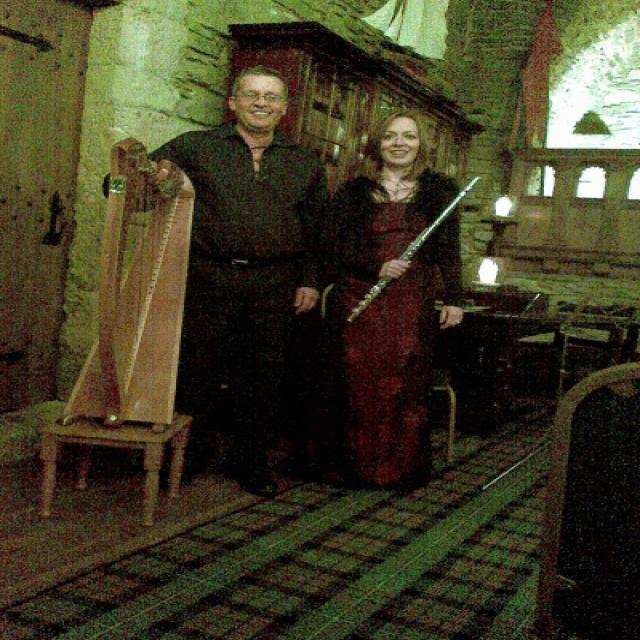harp: (56, 138, 202, 452)
